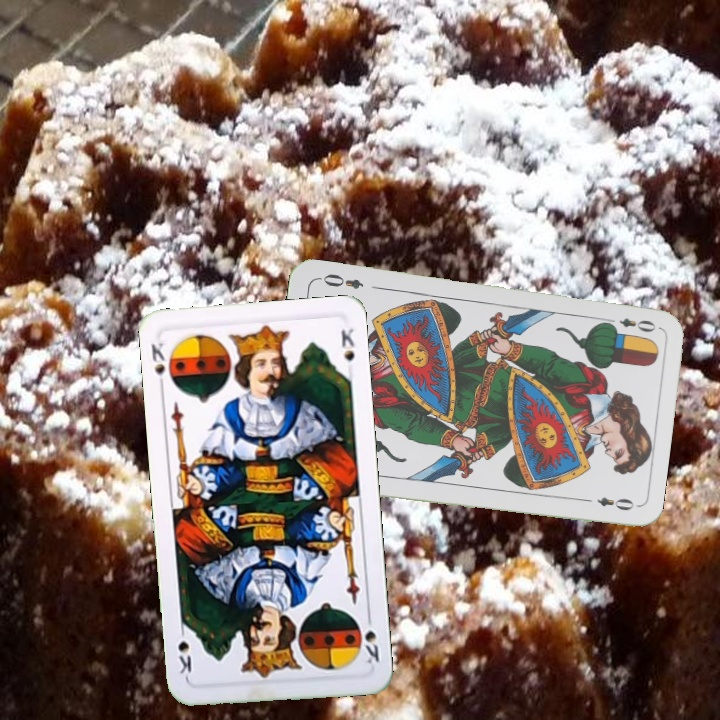EO: (601, 314, 659, 335)
SK: (146, 339, 169, 393), (361, 609, 382, 668)
